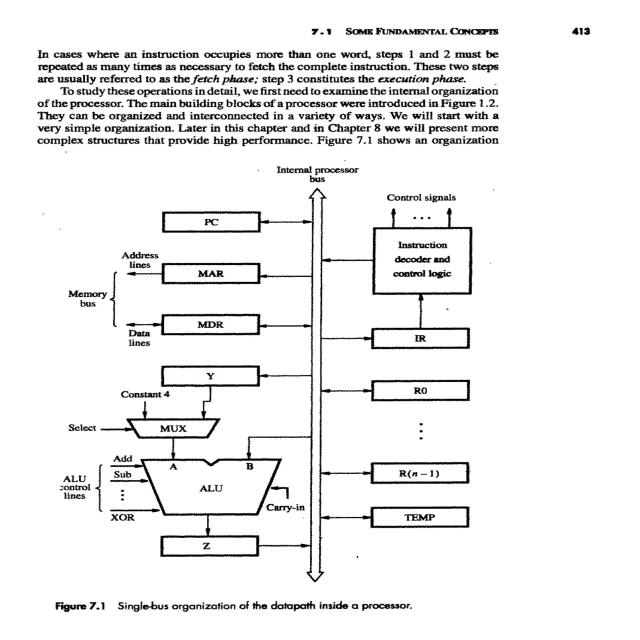diagram: (51, 152, 524, 621)
